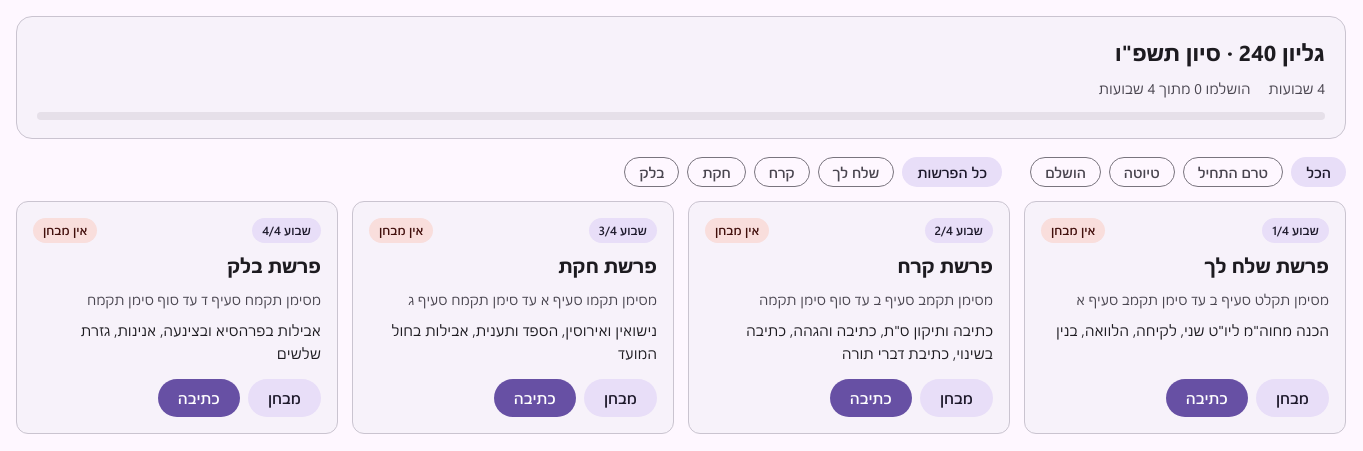
Test: ScheduleScreen — סינון › סינון לפי פרשה מציג שבוע אחד
Click the button "חקת" at (717, 172), box [687,157,746,187]
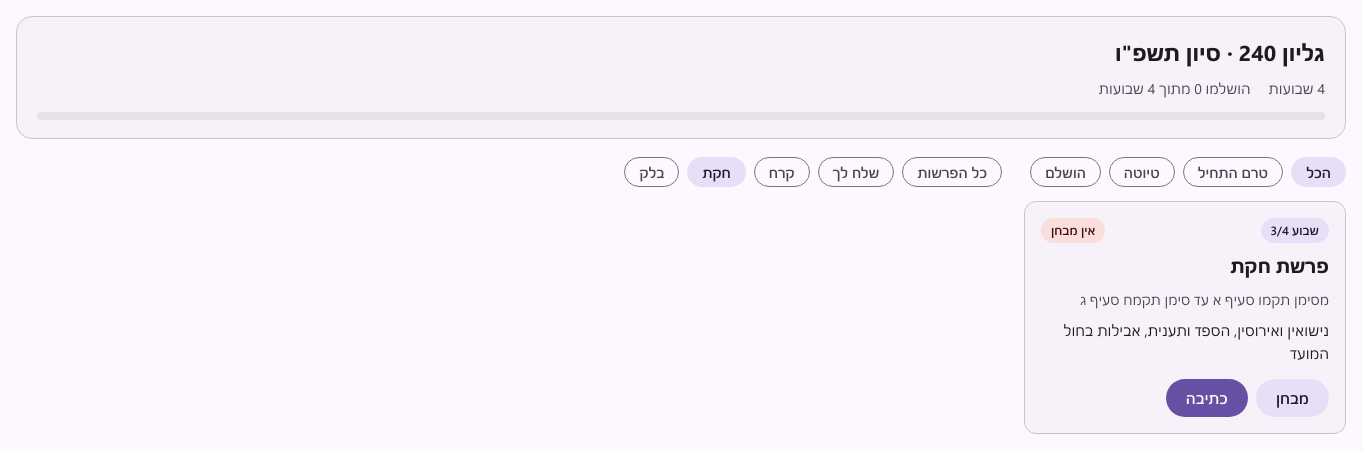
Expected: the heading "פרשת חקת" is shown, [1230,253,1329,278]
Expected: the number of elements with class "week-card" is 1, [1024,201,1346,434]
